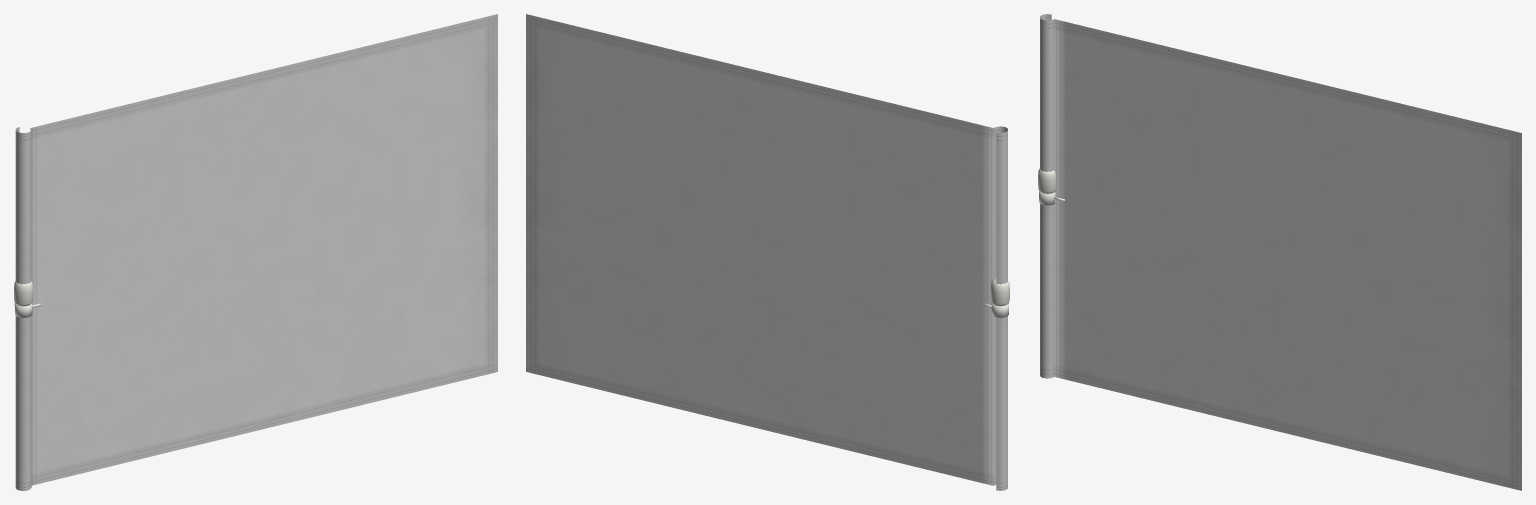
The model's file is pin.glb.
3 views of the same model, side by side, from view 1: azimuth 30°, elevation 25°; view 2: azimuth 150°, elevation 25°; view 3: azimuth 330°, elevation 25° (orthographic).
Visible parts, largest first — view 1: flag; view 2: flag; view 3: flag.
Part boxes in pixels (bbox=[...]): flag: bbox=[15, 14, 497, 490]; flag: bbox=[526, 14, 1007, 490]; flag: bbox=[1040, 14, 1521, 490].
Size of the model in its own units: 0.5018 by 0.3556 by 0.0172.
Materials: 3 (1 with a texture image).
